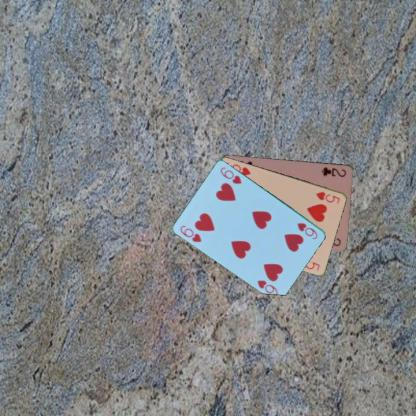2c: (319, 165, 347, 178)
5h: (314, 189, 341, 204)
6h: (177, 223, 203, 244), (295, 220, 319, 240)
